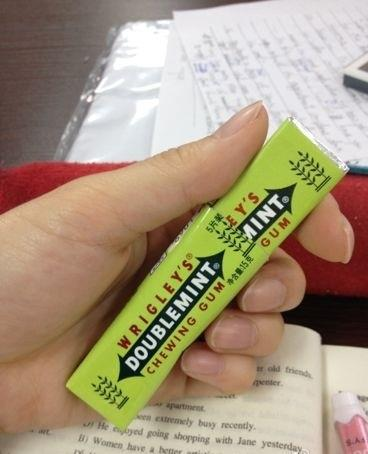Doublemint: (91, 172, 302, 389)
